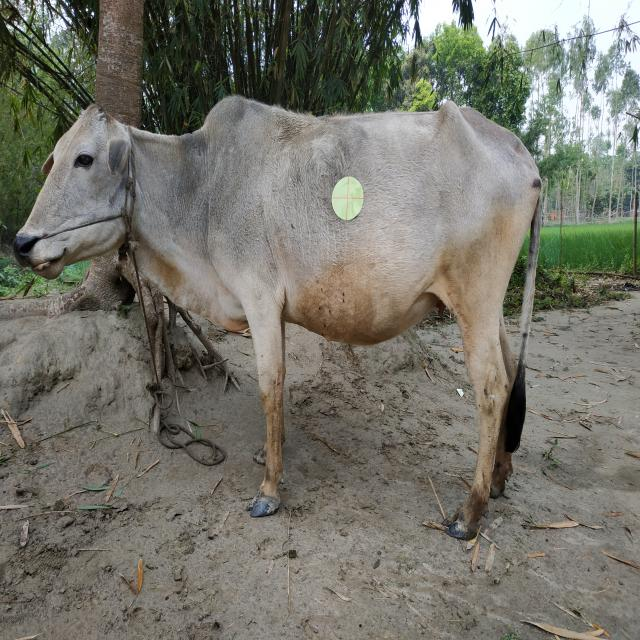badan_sapi: (197, 105, 526, 342)
sapi: (11, 82, 545, 555)
